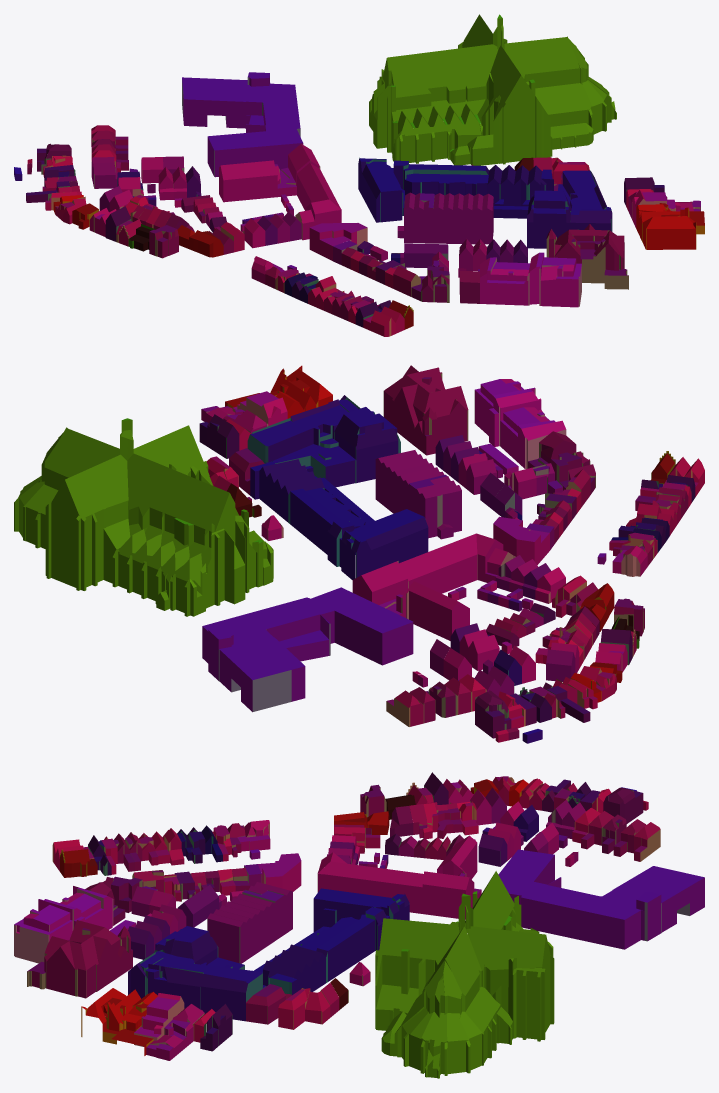
Rendered from buildings_7_9.glb.
3 views of the same model, one above another, from view 1: azimuth 30°, elevation 25°; view 2: azimuth 150°, elevation 25°; view 3: azimuth 270°, elevation 25° (orthographic). The views are drawn at different scales.
Parts seen in each view (by area): view 1: buildings_7_9; view 2: buildings_7_9; view 3: buildings_7_9.
Part boxes in pixels (box(x1,y1,x2,y2)): buildings_7_9: box(14, 14, 704, 336); buildings_7_9: box(14, 365, 704, 743); buildings_7_9: box(14, 772, 704, 1078).
Size of the model in its own units: 232 by 47.78 by 233.
